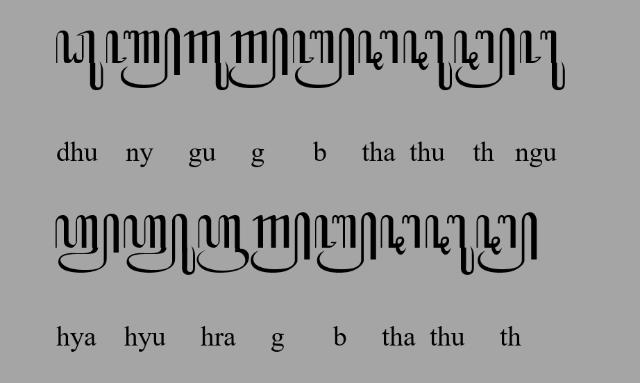-b: (314, 212, 378, 274), (293, 27, 355, 89)
-g: (250, 212, 310, 274), (229, 28, 289, 88)
-ny: (106, 27, 180, 89)
-th: (454, 28, 516, 90), (476, 212, 538, 274)
dhu: (54, 30, 104, 90)
gu: (183, 30, 229, 90)
hr: (196, 213, 250, 273)
hy: (54, 212, 120, 274)
hyu: (122, 212, 196, 276)
ngu: (518, 29, 566, 91)
th: (380, 214, 420, 255), (358, 30, 398, 70)
thu: (425, 214, 475, 276), (403, 30, 453, 90)
